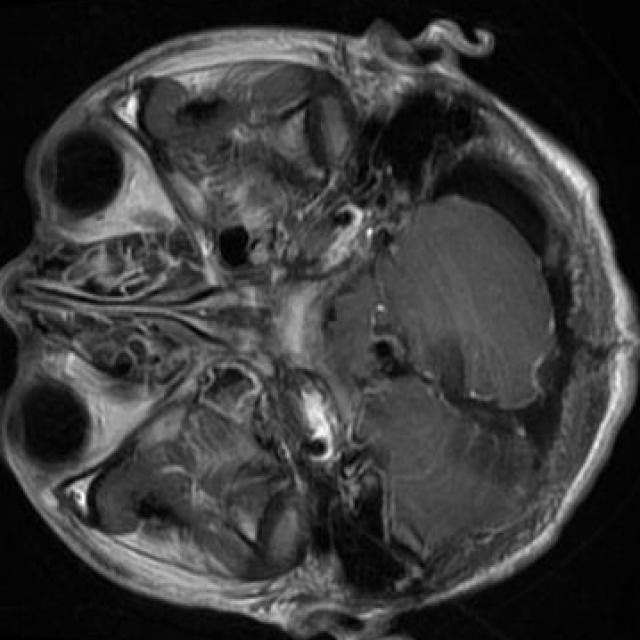glioma: (430, 333, 529, 488)
